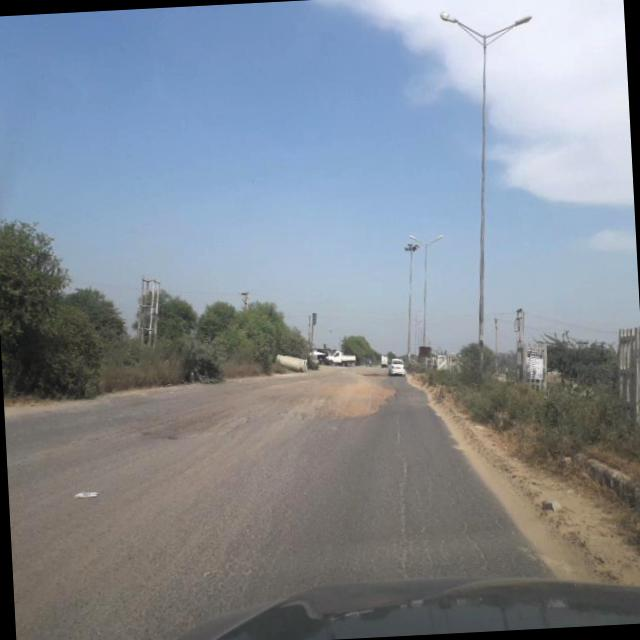crack: (22, 476, 264, 624), (380, 409, 423, 571), (446, 479, 492, 568)
pothole: (268, 374, 404, 424), (132, 403, 256, 448)
